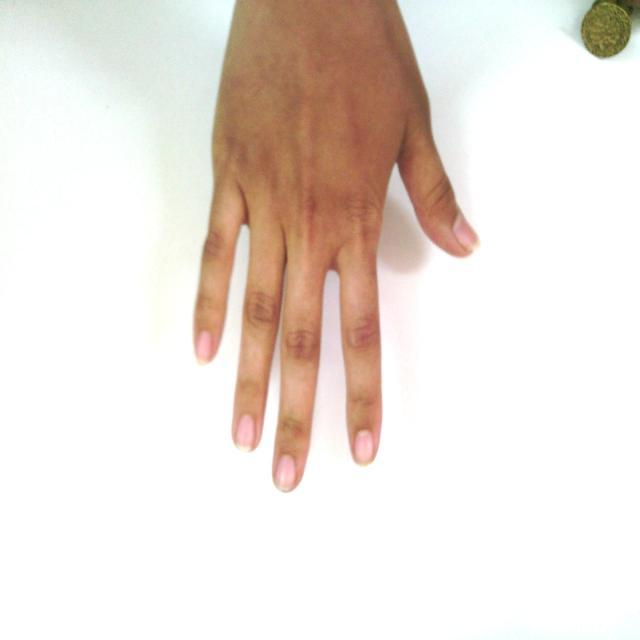Fingernail: (453, 215, 481, 251), (235, 413, 256, 451), (275, 454, 296, 491), (354, 428, 374, 466), (196, 330, 211, 364)
